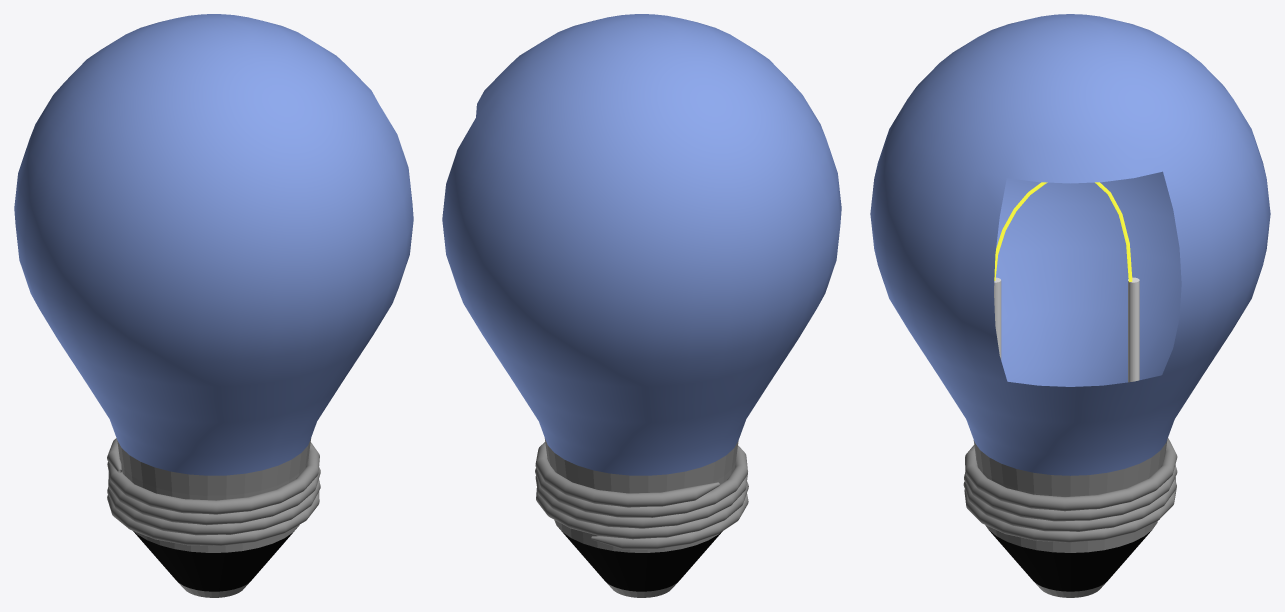
Rendered from bulb3.gltf.
3 views of the same model, side by side, from view 1: azimuth 30°, elevation 25°; view 2: azimuth 150°, elevation 25°; view 3: azimuth 270°, elevation 25° (orthographic).
Visible parts, largest first — view 1: bulbMain, screw, bulbMetal, bulbEnd; view 2: bulbMain, screw, bulbMetal, bulbEnd; view 3: bulbMain, screw, bulbMetal, bulbEnd, Cylinder, light.
Part boxes in pixels (<box>): bulbMain: <box>14,14,413,475</box>; screw: <box>107,438,320,545</box>; bulbMetal: <box>117,438,311,597</box>; bulbEnd: <box>133,528,296,591</box>; bulbMain: <box>442,14,841,475</box>; screw: <box>535,442,748,549</box>; bulbMetal: <box>544,438,738,597</box>; bulbEnd: <box>559,528,722,591</box>; bulbMain: <box>870,14,1270,475</box>; screw: <box>963,438,1177,542</box>; bulbMetal: <box>973,440,1167,597</box>; bulbEnd: <box>989,530,1151,591</box>; Cylinder: <box>1128,277,1139,382</box>; light: <box>994,182,1132,282</box>.
Bounding box in the file's own units: 1.92 × 3.04 × 2.
